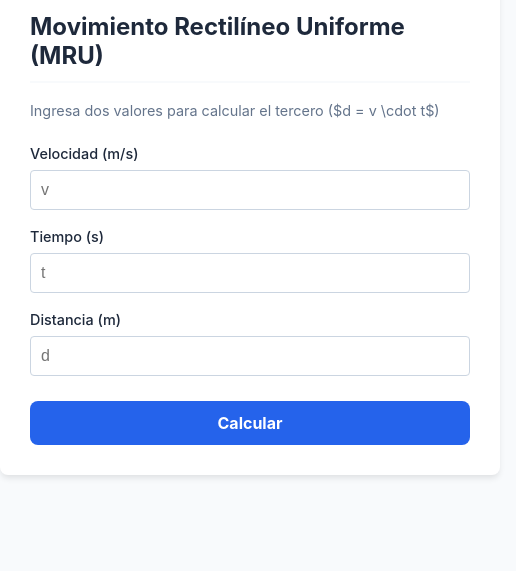
Test case: MRU Component › should calculate Velocity correctly (d / t)
The image size is (516, 571).
Type "100" into the number field labelled "Distancia (m)".
click(250, 356); type("100")  # box [30, 336, 470, 376]
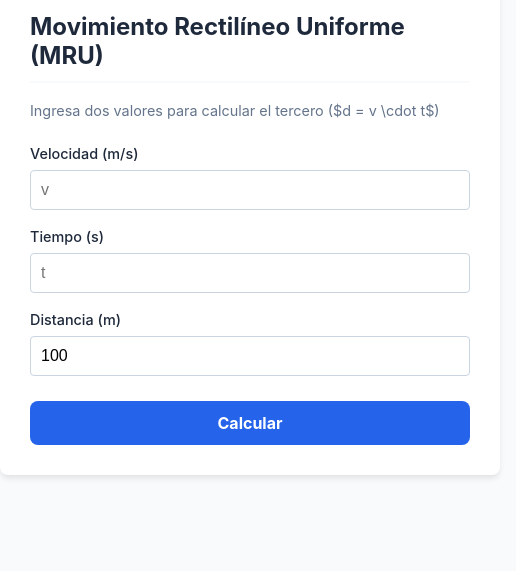
Type "10" into the number field labelled "Tiempo (s)".
click(250, 273); type("10")  # box [30, 253, 470, 293]
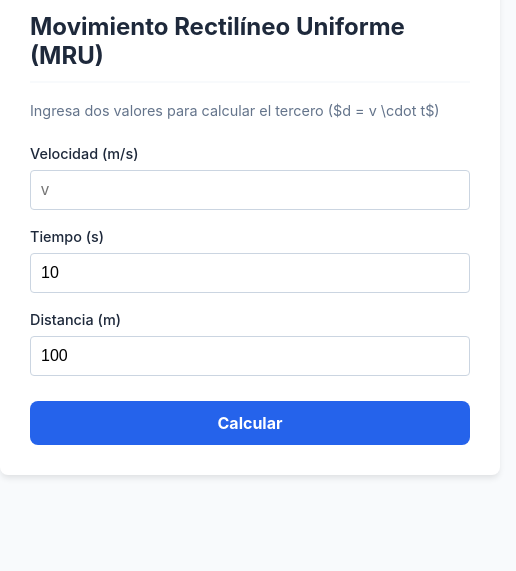
Click the button "Calcular".
click(250, 423)  # box [30, 401, 470, 445]
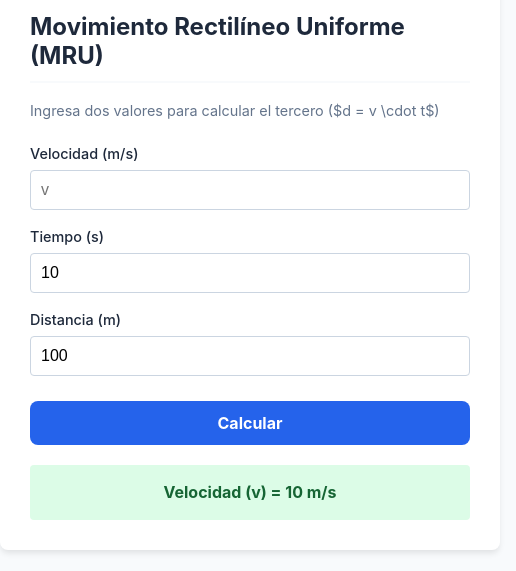
Check: the text "Velocidad (v) = 10 m/s" is shown, box [30, 465, 470, 520]
